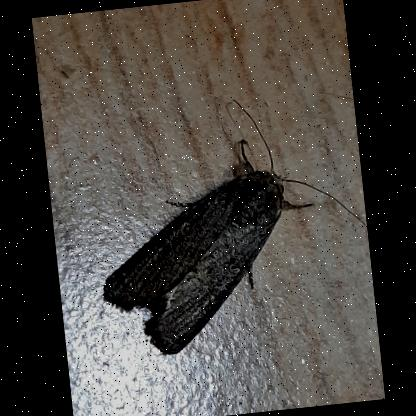Fall Armyworm Moth: (79, 81, 378, 364)
